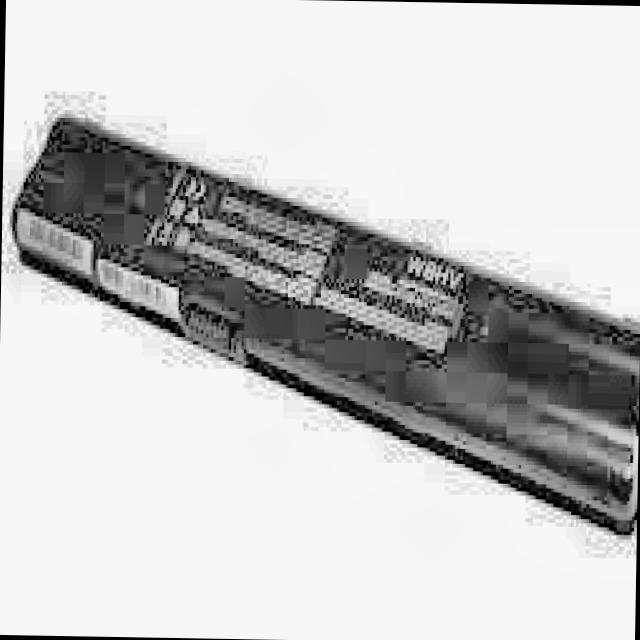Battery: (4, 115, 640, 553)
